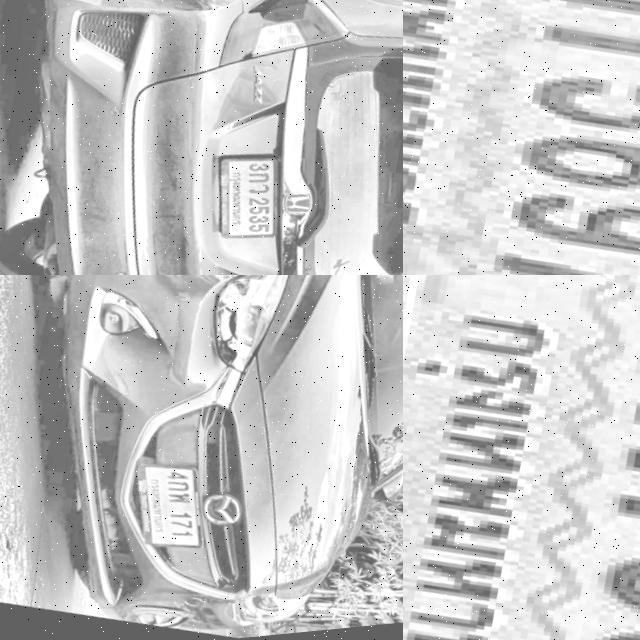license-plate: (403, 275, 640, 640), (403, 0, 640, 275), (110, 450, 214, 566), (188, 146, 289, 259)
